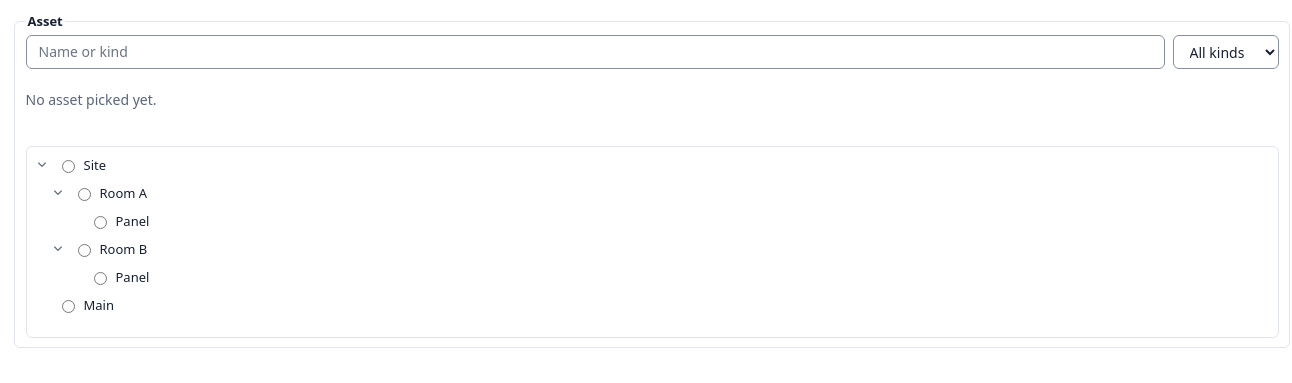
Test case: AssetPicker › in single mode shows radios and replaces the choice
Click the radio button labelled "Main": (68,306) 62,300 -> 74,313
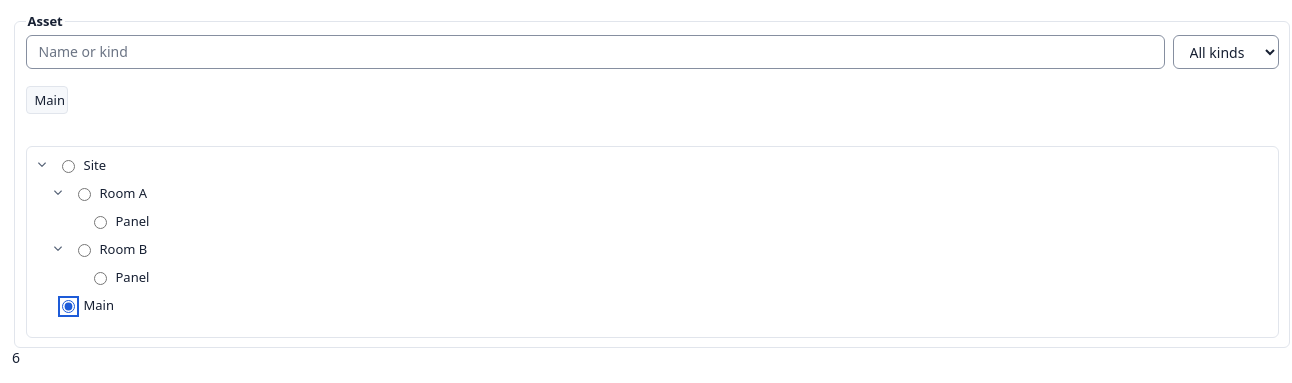
Expected: the text with test id "selected" reads "6", 12,348 -> 20,367
Click the radio button labelled "Site": (68,166) 62,160 -> 74,173
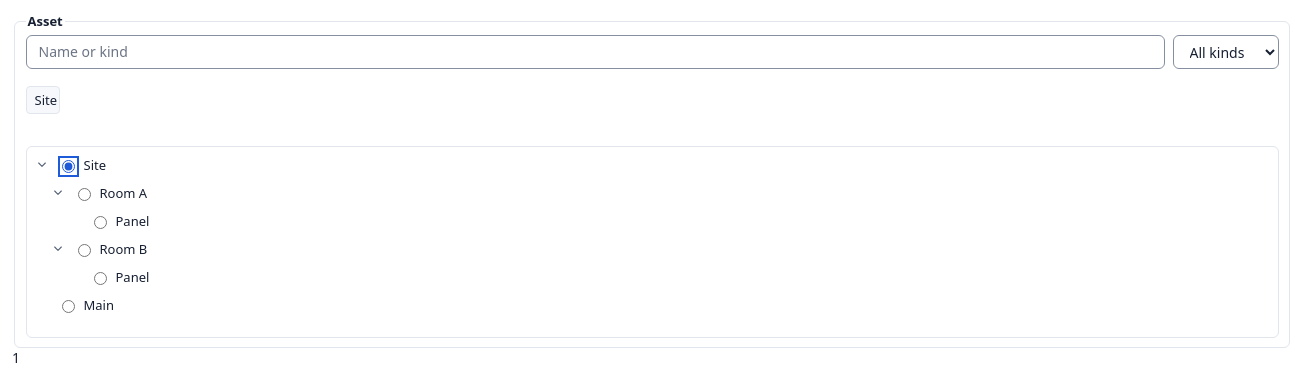
Expected: the radio button labelled "Main" is not checked, 62,300 -> 74,313
Expected: the text with test id "selected" reads "1", 12,348 -> 20,367
